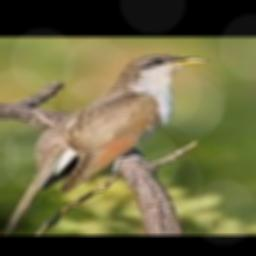Cuckoo: (0, 54, 210, 234)
